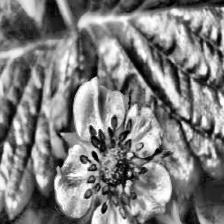Blossom Blight: (76, 111, 150, 220)
